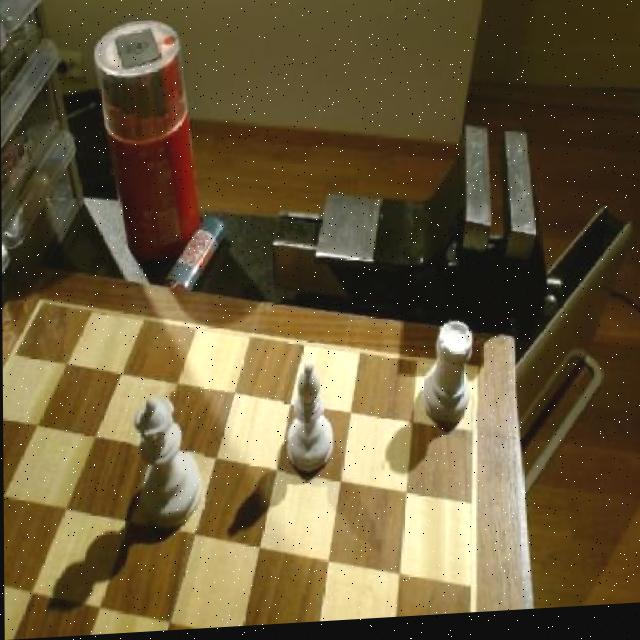black-rook: (284, 363, 339, 484)
white-pawn: (130, 392, 205, 537)
white-queen: (419, 319, 480, 436)
